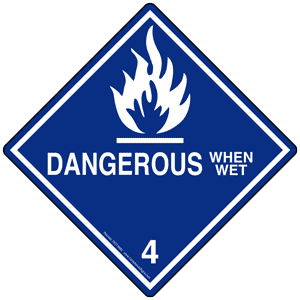DangerousWhenWet: (8, 4, 295, 290)
